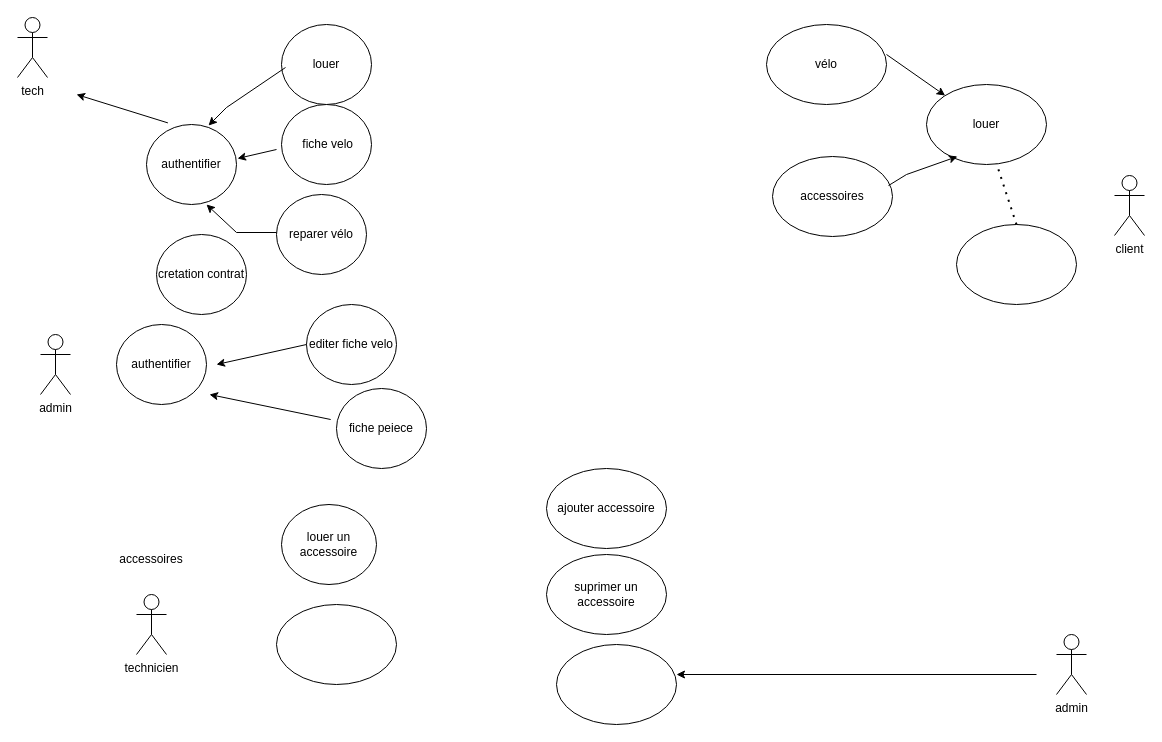
Some shapes in this 1162 by 742 pixel diagram are drawn without their labels. The shapes that lost their labels are listed below. From the top down, each one's box as (x1, y1, x2, y2) in pixels, then its label:
(956, 224, 1076, 304): disponible
(556, 644, 676, 724): editer un accessoir
